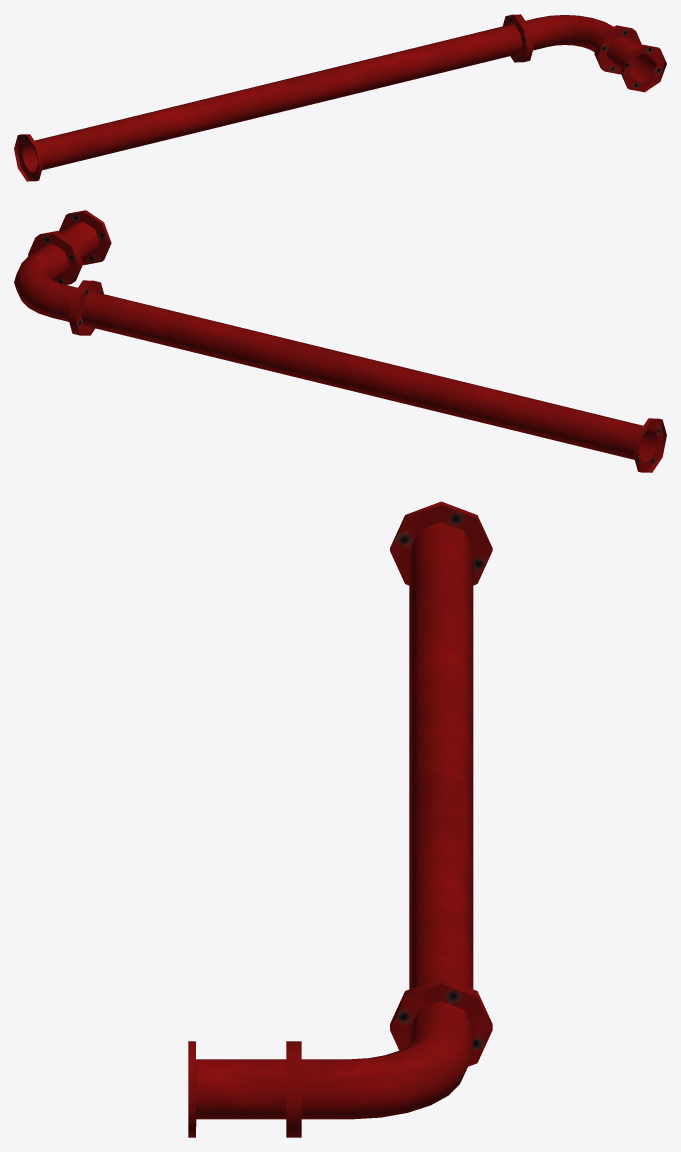
The model's file is PipeSmall_BigCorner.FBX.
3 views of the same model, one above another, from view 1: azimuth 30°, elevation 25°; view 2: azimuth 150°, elevation 25°; view 3: azimuth 270°, elevation 25° (orthographic). The views are drawn at different scales.
Visible parts, largest first — view 1: PipeSmall_BigCorner; view 2: PipeSmall_BigCorner; view 3: PipeSmall_BigCorner.
Part boxes in pixels (bbox=[...]): PipeSmall_BigCorner: bbox=[14, 14, 666, 181]; PipeSmall_BigCorner: bbox=[14, 210, 666, 472]; PipeSmall_BigCorner: bbox=[188, 501, 492, 1137].
Size of the model in its own units: 40.94 by 3.15 by 9.34.
